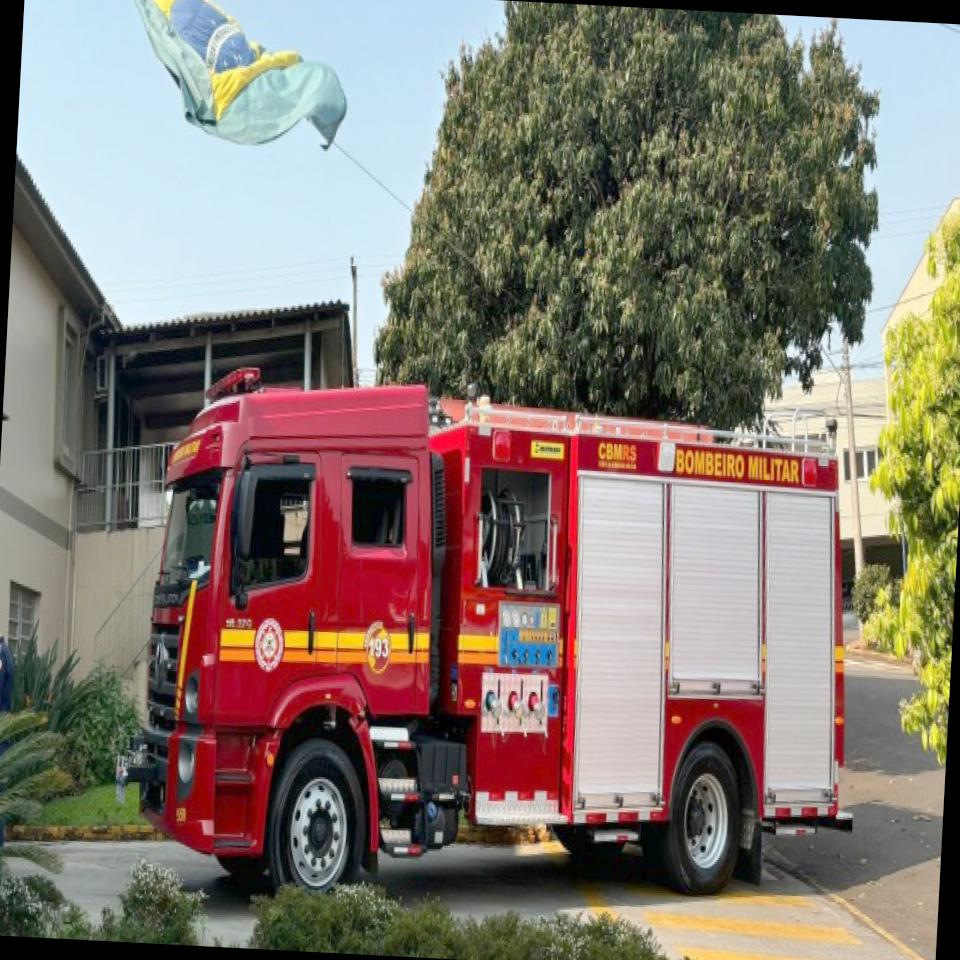viatura: (110, 361, 876, 933)
